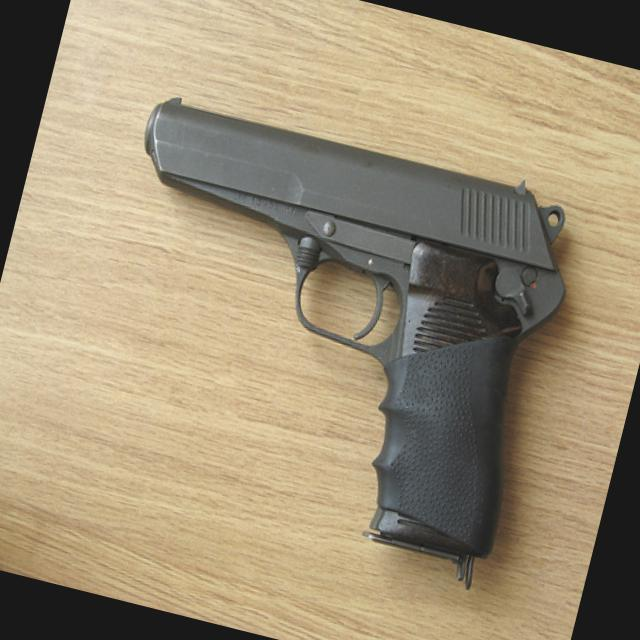handgun: (58, 85, 591, 568)
